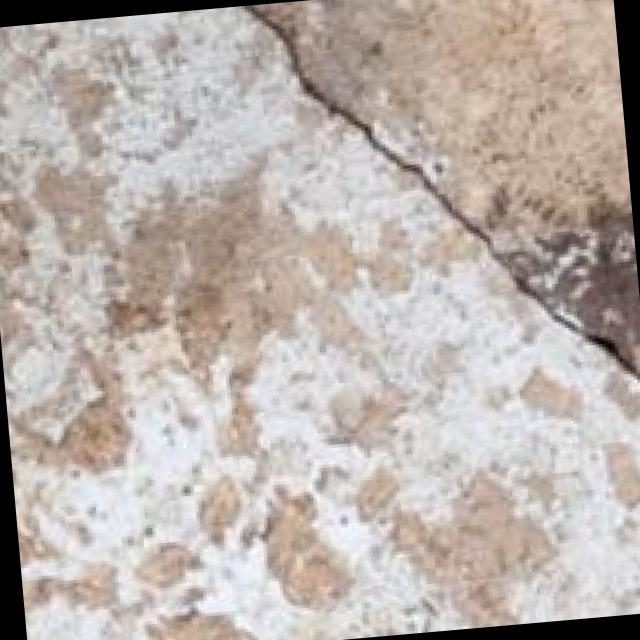crack: (241, 0, 640, 506)
